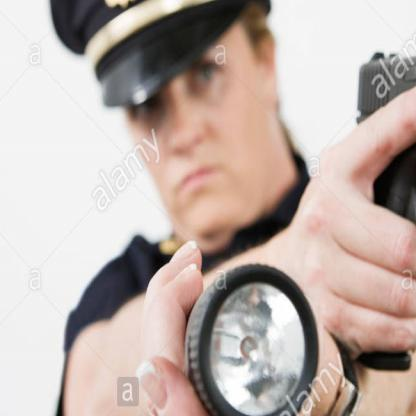gun: (356, 23, 415, 372)
